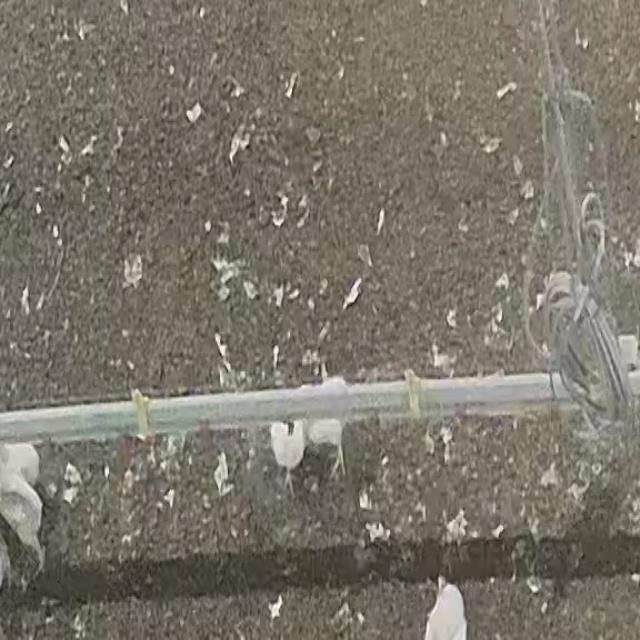chicken: (273, 375, 353, 487), (422, 576, 469, 640)
